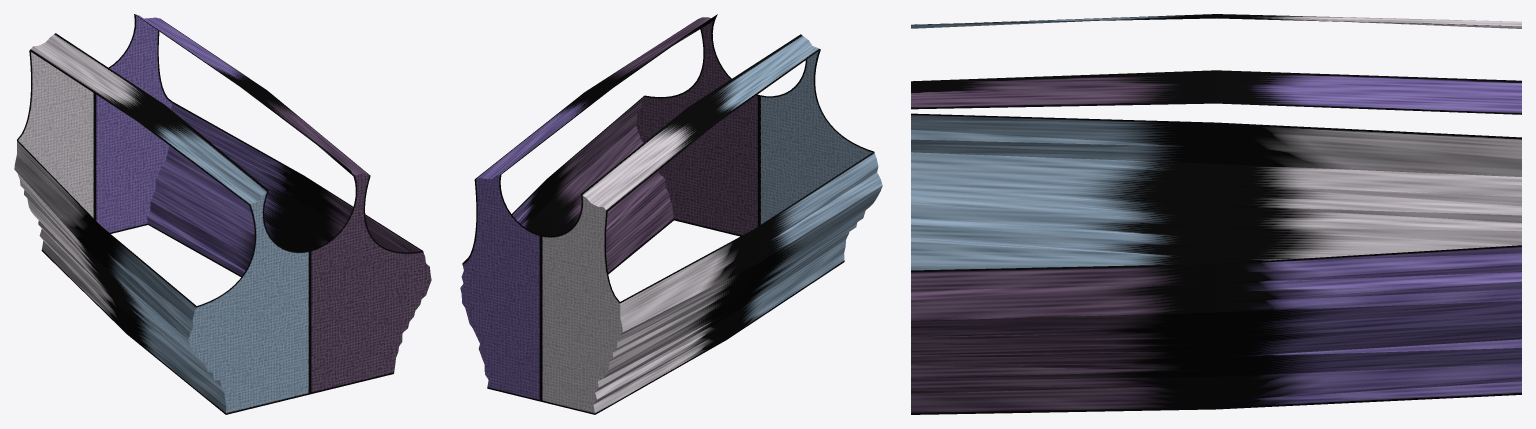
File: tank_knit4_s40_cw10_boxmesh.obj
3 renders of one model, left to right at view 1: azimuth 30°, elevation 25°; view 2: azimuth 150°, elevation 25°; view 3: azimuth 270°, elevation 25°, orthographic. The views are drawn at different scales.
Bounding box in the file's own units: 35.93 × 31.16 × 55.
1 material, 1 textured.
